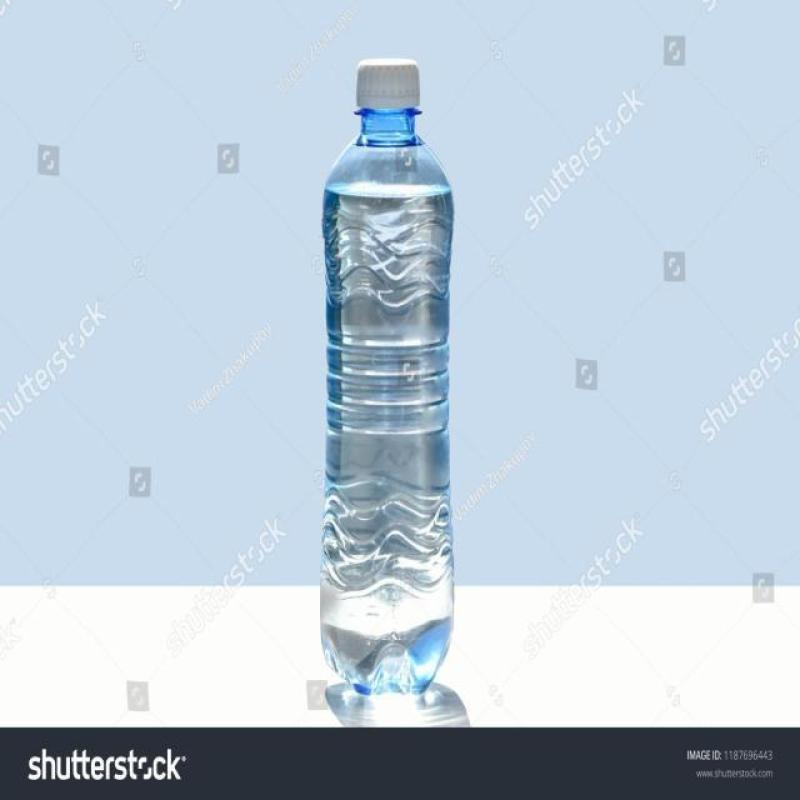botella: (323, 58, 452, 696)
